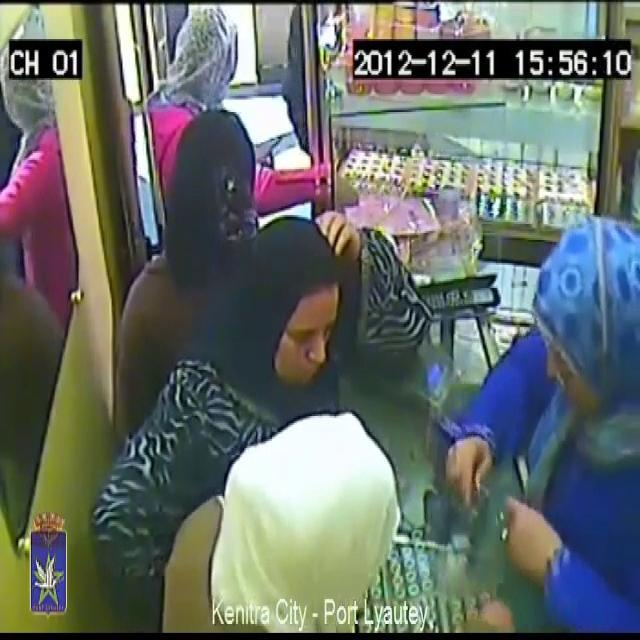normal: (426, 186, 639, 640), (132, 410, 397, 640), (142, 1, 384, 238), (235, 210, 365, 418), (166, 108, 261, 283)
